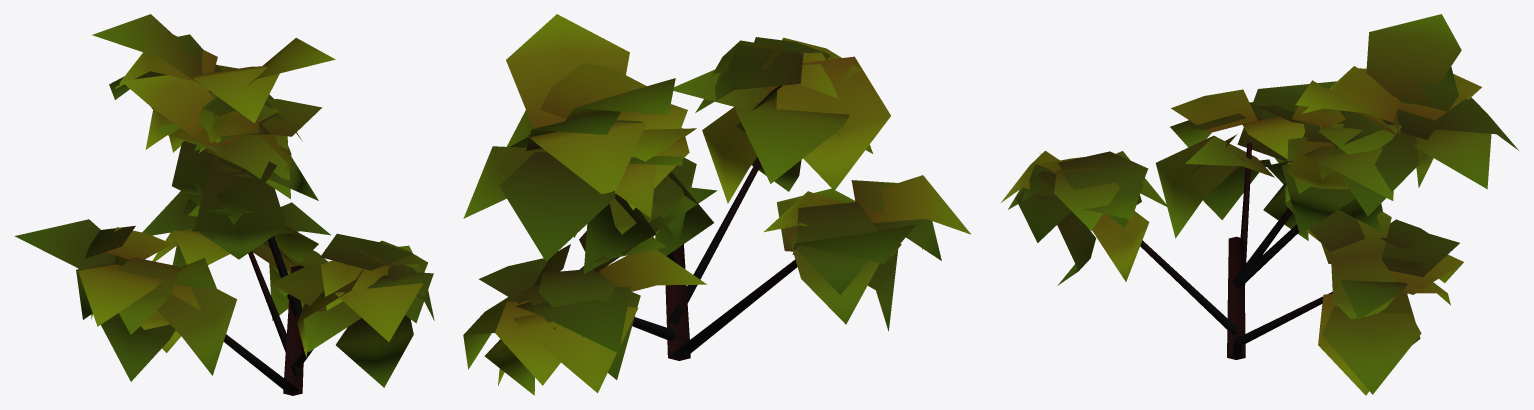
File: broadleaf_a_high.glb
3 views of the same model, side by side, from view 1: azimuth 30°, elevation 25°; view 2: azimuth 150°, elevation 25°; view 3: azimuth 270°, elevation 25° (orthographic). The views are drawn at different scales.
Visible parts, largest first — view 1: broadleaf_a_high; view 2: broadleaf_a_high; view 3: broadleaf_a_high.
Boxes of the visible parts, x1,y1,x2,y2 form: broadleaf_a_high: [14, 14, 434, 395]; broadleaf_a_high: [463, 14, 970, 395]; broadleaf_a_high: [1001, 14, 1518, 395].
Size of the model in its own units: 4.28 by 3.71 by 5.91.
1 material, 1 textured.
